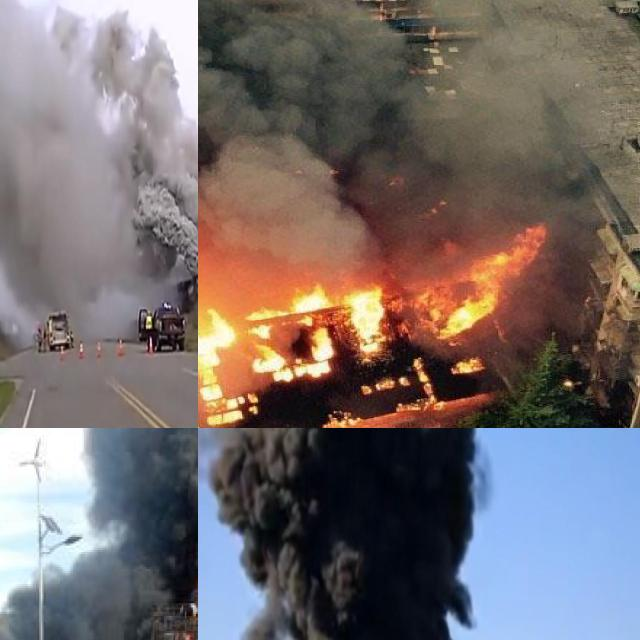fire: (198, 256, 508, 428)
smoke: (198, 0, 620, 296), (198, 428, 530, 640), (0, 0, 198, 317), (0, 428, 198, 640)
